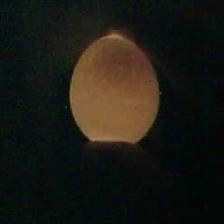infertile: (68, 34, 160, 148)
